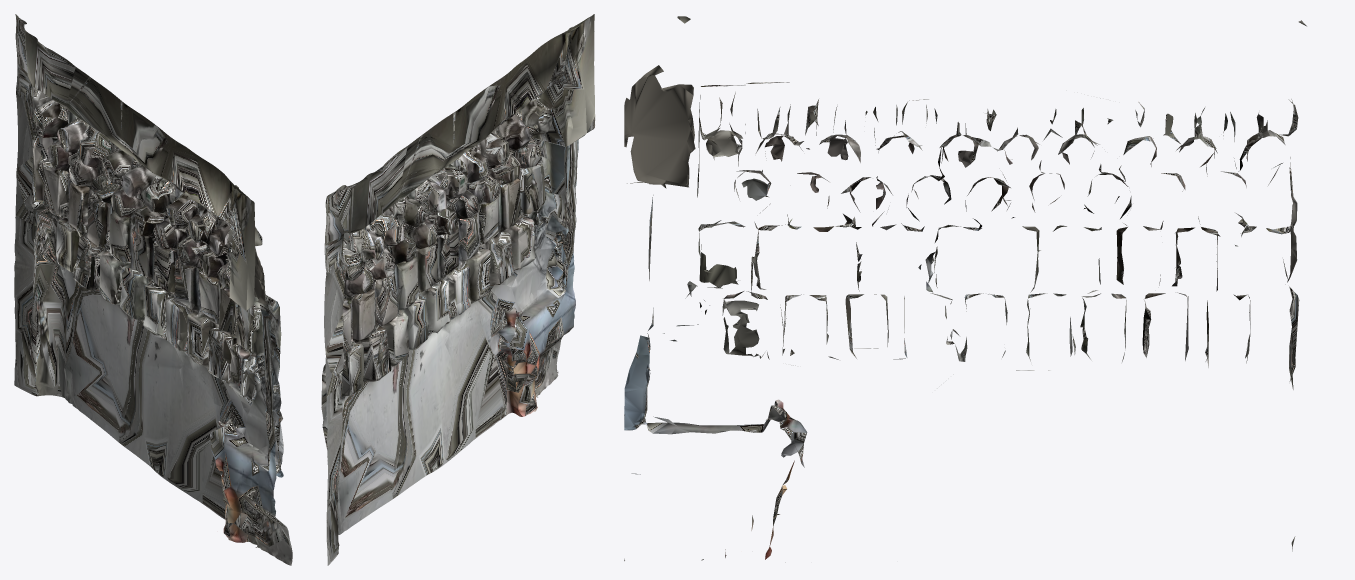
Rendered from electric_meters_and_panels_1.glb.
3 views of the same model, side by side, from view 1: azimuth 30°, elevation 25°; view 2: azimuth 150°, elevation 25°; view 3: azimuth 270°, elevation 25° (orthographic). The views are drawn at different scales.
Parts seen in each view (by area): view 1: Object_4; view 2: Object_4; view 3: Object_4.
Boxes of the visible parts, x1,y1,x2,y2 form: Object_4: (14,14,292,565); Object_4: (321,14,595,565); Object_4: (624,16,1306,562).
Size of the model in its own units: 0.2611 by 2.12 by 2.62.
Materials: 1 (1 with a texture image).
